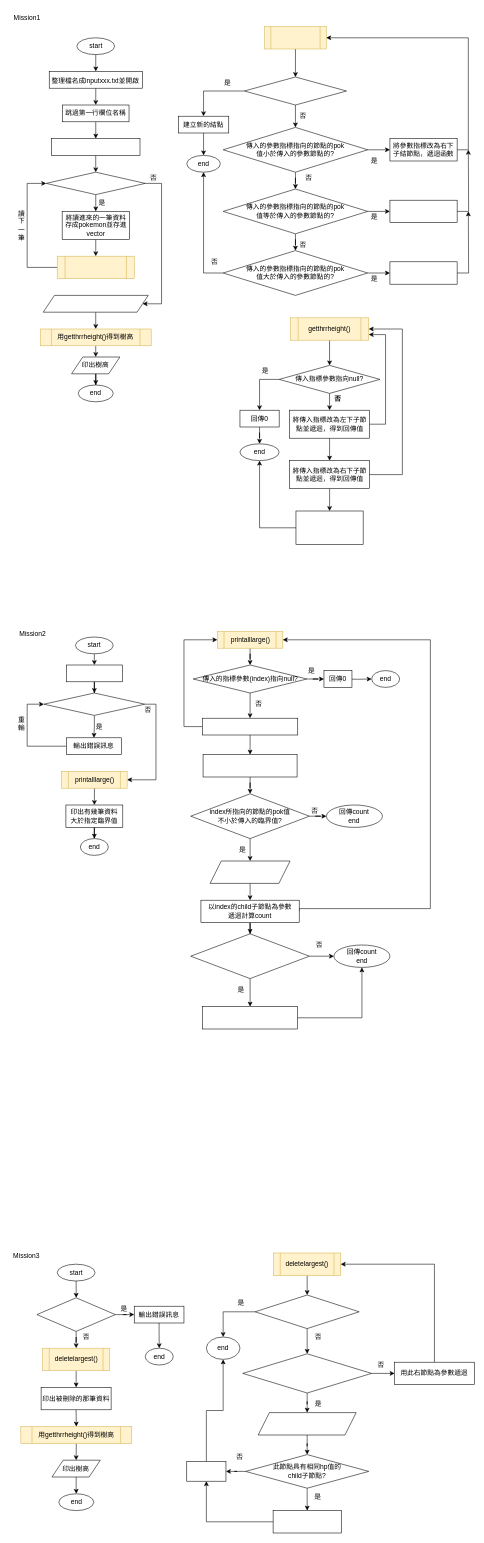
The diagram is 484 pixels wide and 1543 high, and some of its shapes have lost their labels. The box of each missing label's shape, as (x1, y1, x2, y2) in pixels:
addnode(): (264, 26, 326, 49)
count是以index的右子節點為參數遞迴所回傳的數+1: (202, 754, 297, 777)
index所指向的節點的pok值 大於傳入的臨界值?: (190, 933, 309, 979)
以index的右子節點為參數遞迴: (202, 718, 298, 735)
以index的左子節點為參數 遞迴計算count: (202, 1006, 298, 1029)
依規定將vector中的資料印出: (43, 295, 148, 312)
傳入的參數指標指向null?: (244, 76, 347, 105)
傳入的指標參數指向null?: (255, 1294, 359, 1329)
傳入的指標參數指向的結點的 右子結點是leaf?: (242, 1353, 372, 1393)
初始化head使其指向null: (51, 138, 140, 155)
刪除自己: (186, 1461, 226, 1481)
印出此節點的pok值: (258, 1412, 356, 1435)
印出這個節點的資料: (210, 860, 290, 883)
將參數指標改為左下子節點，遞迴函數: (389, 261, 457, 284)
將參數指標改為穿入紙面方向的子節點，遞迴函數: (389, 200, 457, 223)
數高是零? (未建立二元樹): (36, 1297, 115, 1331)
比較左右回傳值 回傳較大者+1: (295, 510, 363, 545)
用addnode()將這個node存進二元樹: (57, 256, 134, 279)
讓他的child子節點指向他的左子節點: (273, 1510, 341, 1533)
輸入指定臨界值: (66, 664, 122, 682)
輸入的值小於1或大於80: (43, 692, 145, 715)
還讀的到資料?: (46, 172, 145, 195)
